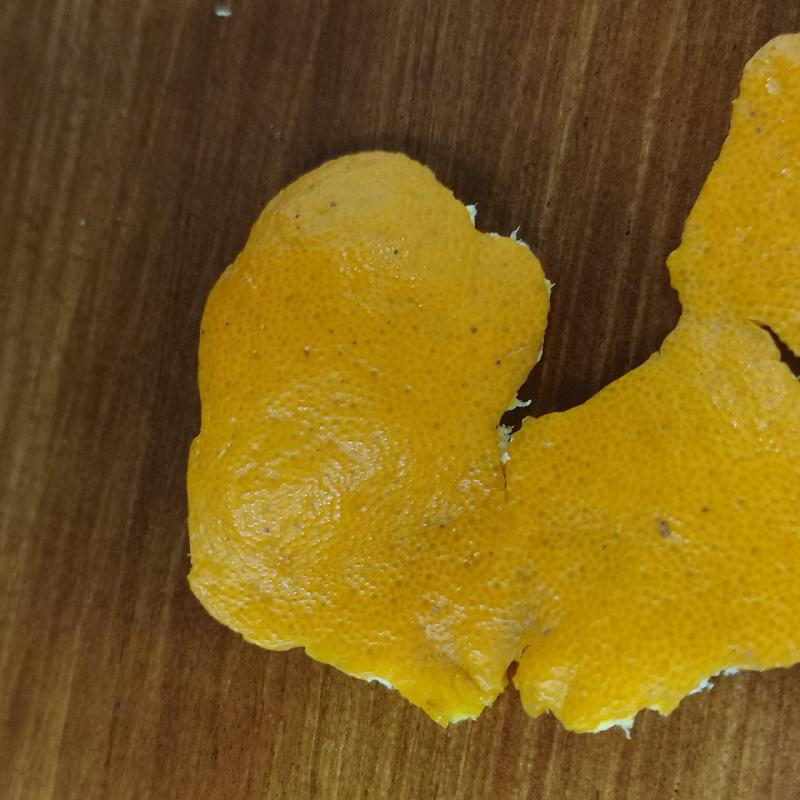orange: (183, 26, 799, 731)
